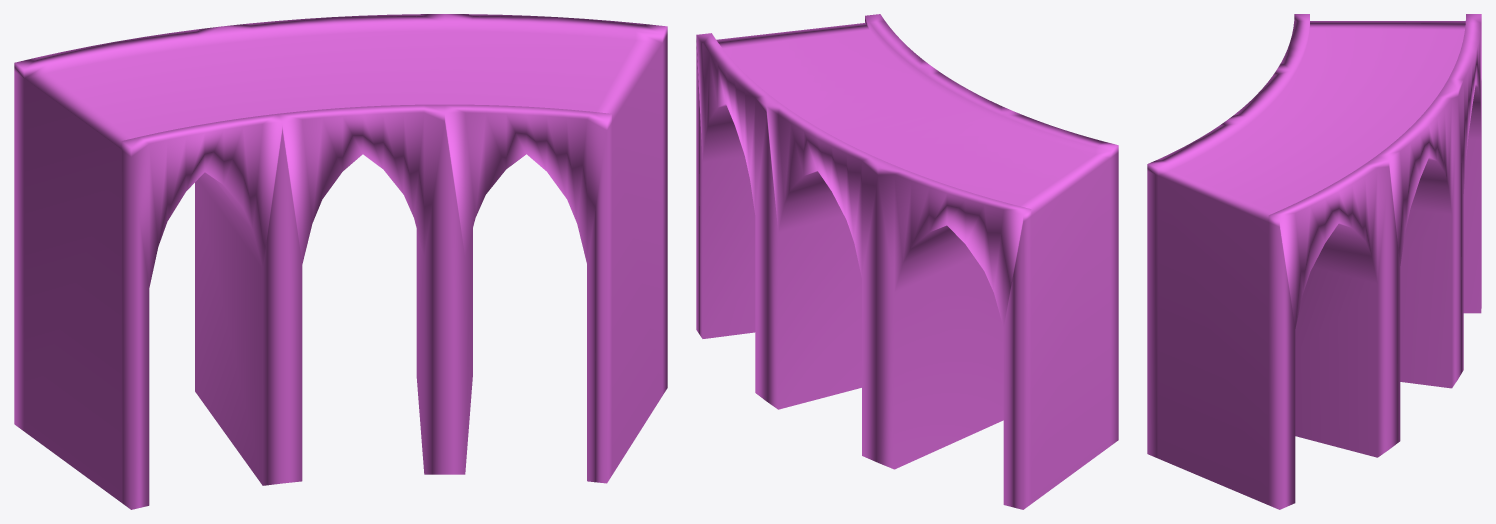
The model's file is RD_Arch_x3_Tall_45.fbx.
3 renders of one model, left to right at view 1: azimuth 30°, elevation 25°; view 2: azimuth 150°, elevation 25°; view 3: azimuth 270°, elevation 25°, orthographic. The views are drawn at different scales.
Parts seen in each view (by area): view 1: RD_Arch_x3_Tall; view 2: RD_Arch_x3_Tall; view 3: RD_Arch_x3_Tall.
Part boxes in pixels (x1,y1,x2,y2): RD_Arch_x3_Tall: (14,14,667,509); RD_Arch_x3_Tall: (696,14,1118,509); RD_Arch_x3_Tall: (1147,14,1481,509).
Size of the model in its own units: 1250 by 820 by 857.
